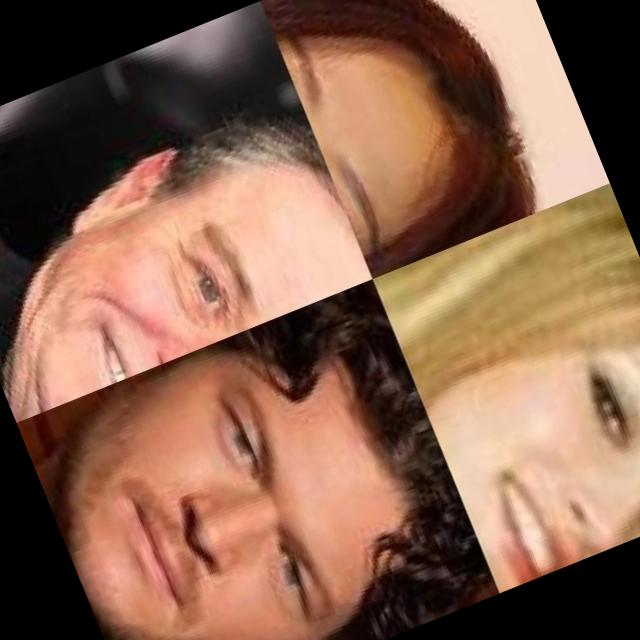bareface: (21, 302, 460, 640)
